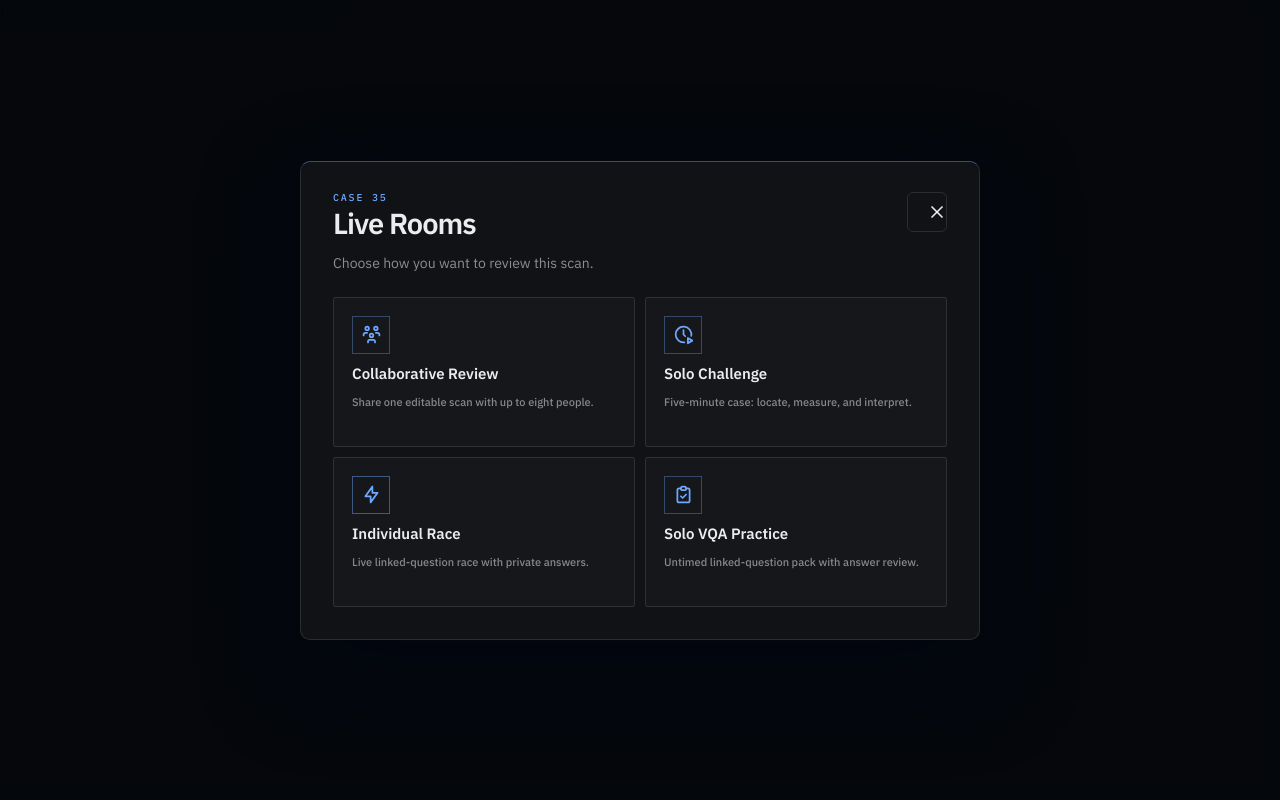
Test: Live Room mode menu › preserves the existing collaborative room form
This screenshot has width=1280, height=800.
Click the button "Collaborative Review".
click(484, 372)  # box [333, 296, 635, 446]
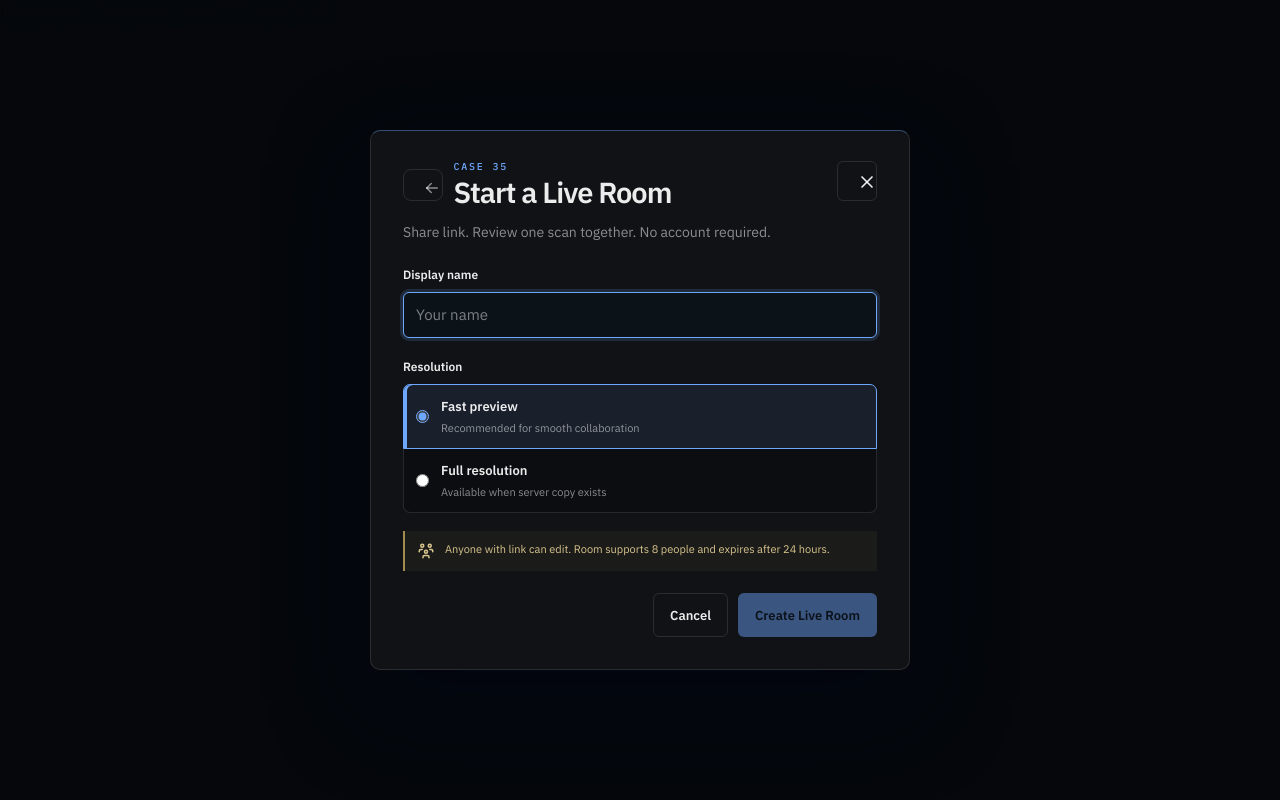
Expected: the heading "Start a Live Room" is shown, [453, 177, 671, 208]
Expected: the field labelled "Display name" is shown, [403, 292, 877, 338]
